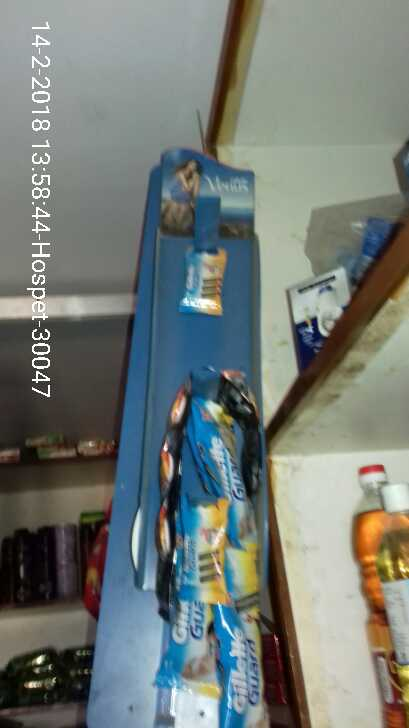gillette: (197, 408, 267, 522), (168, 488, 233, 605), (224, 606, 270, 728), (183, 238, 225, 317)
